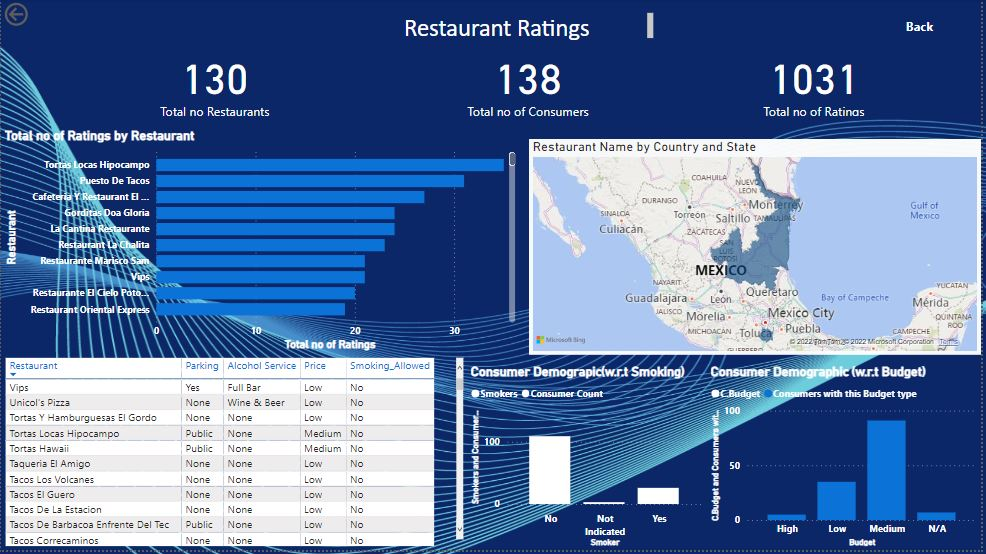

This screenshot's page, from the dashboard's own definition file:
{"tool":"powerbi","page":{"name":"Page 1","canvas":[1280,720],"ordinal":1},"visuals":[{"type":"actionButton","box":[0,0,100,40],"z":0},{"type":"clusteredBarChart","fields":{"Category":["restaurants.Name"],"Y":["ratings.Measure"]},"box":[0,168.1,676.9,296],"z":1000},{"type":"tableEx","fields":{"Values":["restaurants.Name","Min(restaurants.Parking)","Min(restaurants.Alcohol_Service)","Min(restaurants.Price)","Min(restaurants.Smoking_Allowed)"]},"box":[0,464.2,609.3,255.8],"z":2000},{"type":"lineStackedColumnComboChart","title":"Consumer Demograpic(w.r.t Smoking)","fields":{"Y":["consumers.Measure","CountNonNull(consumers.Smoker)"],"Category":["consumers.Smoker"]},"box":[609.3,477.1,313.3,242.9],"z":3000},{"type":"filledMap","fields":{"Category":["restaurants.Country Hierarchy.Country","restaurants.Country Hierarchy.State","restaurants.Country Hierarchy.City","restaurants.Country Hierarchy.Latitude","restaurants.Country Hierarchy.Longitude"]},"box":[689.8,182.5,590.7,281.7],"z":4000},{"type":"columnChart","title":"Consumer Demographic (w.r.t Budget)","fields":{"Category":["consumers.Budget"],"Y":["consumers.C.Budget","CountNonNull(consumers.Budget)"]},"box":[922.6,477.1,357.8,242.9],"z":5000},{"type":"card","fields":{"Values":["consumers.Total no of Consumers"]},"box":[566.2,58.9,245.7,99.2],"z":6000},{"type":"card","fields":{"Values":["restaurants.Total no Restaurants"]},"box":[172.5,58.9,214.1,99.2],"z":7000},{"type":"card","fields":{"Values":["ratings.Highest Rated"]},"box":[947.1,58.9,229.9,99.2],"z":8000},{"type":"textbox","box":[521.7,12.9,336.3,46],"z":9000},{"type":"textbox","box":[1177,20.1,57.5,38.8],"z":10000},{"type":"actionButton","box":[1155.4,12.9,100.6,46],"z":11000}]}

Visuals, with their boxes in screenshot pixels (x1, y1, x2, y2), scaled from the page's 1280x720 canvas onto the 986x554 screenshot:
actionButton: select_region(0, 0, 77, 31)
clusteredBarChart - restaurants.Name x ratings.Measure: select_region(0, 129, 521, 357)
tableEx - restaurants.Name x Min(restaurants.Parking): select_region(0, 357, 469, 553)
"Consumer Demograpic(w.r.t Smoking)" lineStackedColumnComboChart: select_region(469, 367, 711, 553)
filledMap - restaurants.Country Hierarchy.Country x restaurants.Country Hierarchy.State: select_region(531, 140, 985, 357)
"Consumer Demographic (w.r.t Budget)" columnChart: select_region(711, 367, 985, 553)
card - consumers.Total no of Consumers: select_region(436, 45, 625, 122)
card - restaurants.Total no Restaurants: select_region(133, 45, 298, 122)
card - ratings.Highest Rated: select_region(730, 45, 907, 122)
textbox: select_region(402, 10, 661, 45)
textbox: select_region(907, 15, 951, 45)
actionButton: select_region(890, 10, 968, 45)
